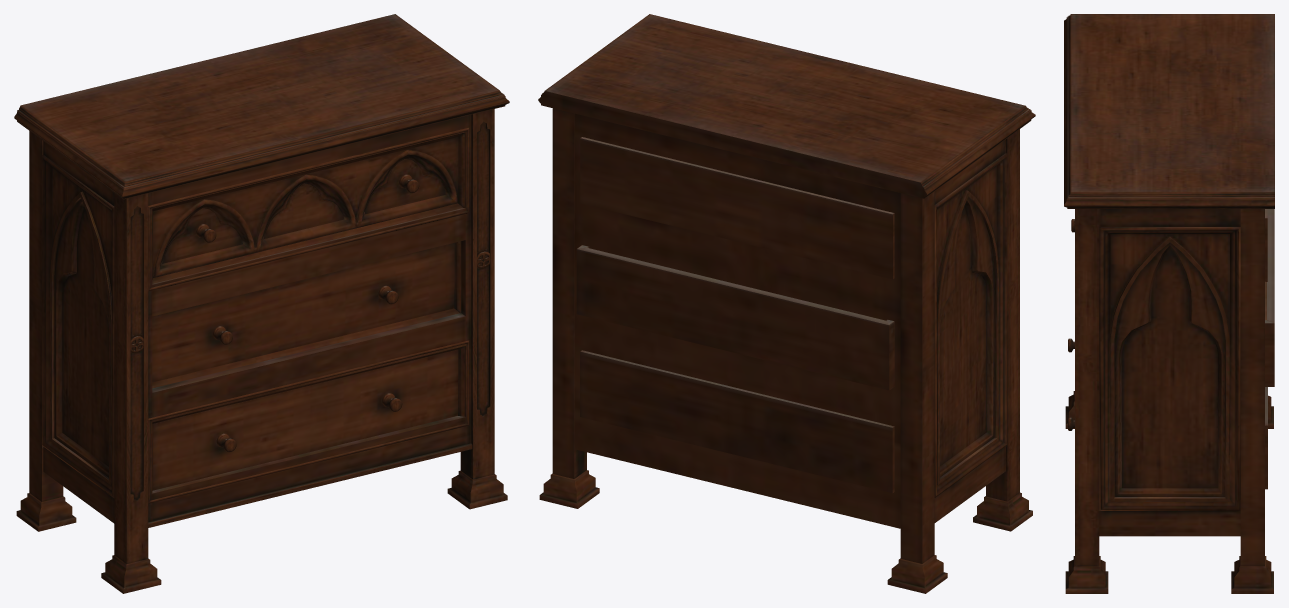
File: GothicCommode_01_2k.gltf
3 renders of one model, left to right at view 1: azimuth 30°, elevation 25°; view 2: azimuth 150°, elevation 25°; view 3: azimuth 270°, elevation 25°, orthographic. The views are drawn at different scales.
Visible parts, largest first — view 1: GothicCommode_01, GothicCommode_01_door01, GothicCommode_01_door03, GothicCommode_01_door02; view 2: GothicCommode_01, GothicCommode_01_door02, GothicCommode_01_door03, GothicCommode_01_door01; view 3: GothicCommode_01, GothicCommode_01_door02, GothicCommode_01_door03.
Boxes of the visible parts, box(x1,y1,x2,y2) form: GothicCommode_01: box(14, 14, 509, 593); GothicCommode_01_door01: box(148, 127, 469, 291); GothicCommode_01_door03: box(148, 340, 469, 503); GothicCommode_01_door02: box(152, 241, 461, 388); GothicCommode_01: box(538, 14, 1035, 593); GothicCommode_01_door02: box(576, 245, 894, 390); GothicCommode_01_door03: box(580, 350, 894, 493); GothicCommode_01_door01: box(580, 137, 894, 279); GothicCommode_01: box(1064, 14, 1274, 593); GothicCommode_01_door02: box(1265, 209, 1274, 386); GothicCommode_01_door03: box(1068, 338, 1267, 489).
Size of the model in its own units: 1.2 by 1.21 by 0.5807.
1 material, 1 textured.
